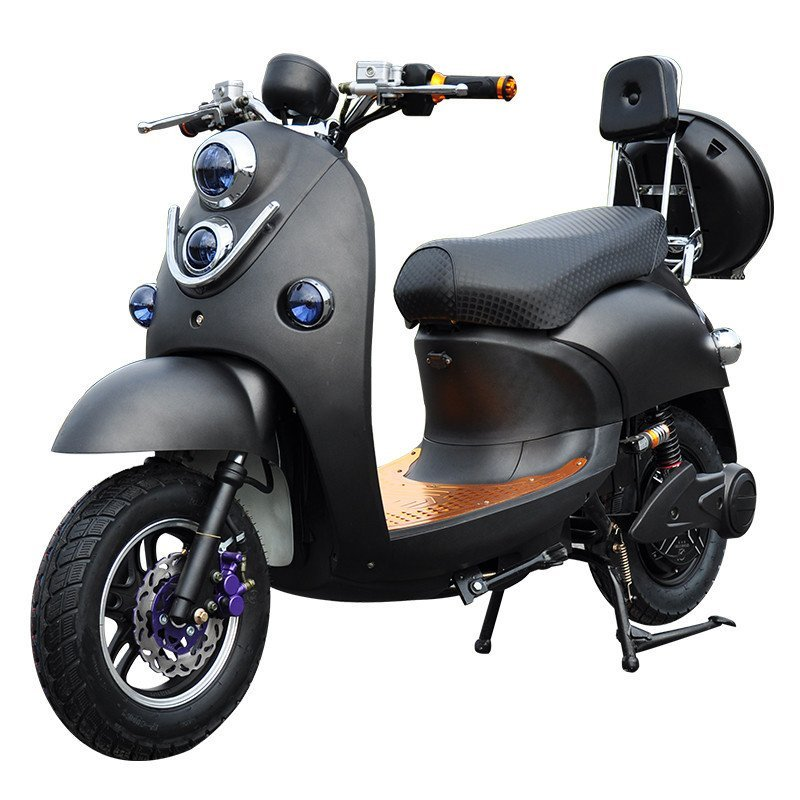MNV: (32, 52, 774, 759)
